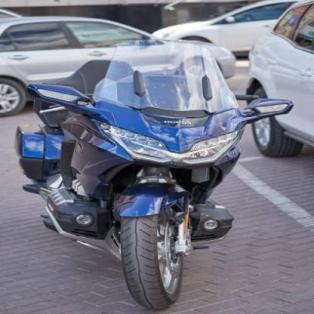Motocicleta: (13, 39, 291, 313)
